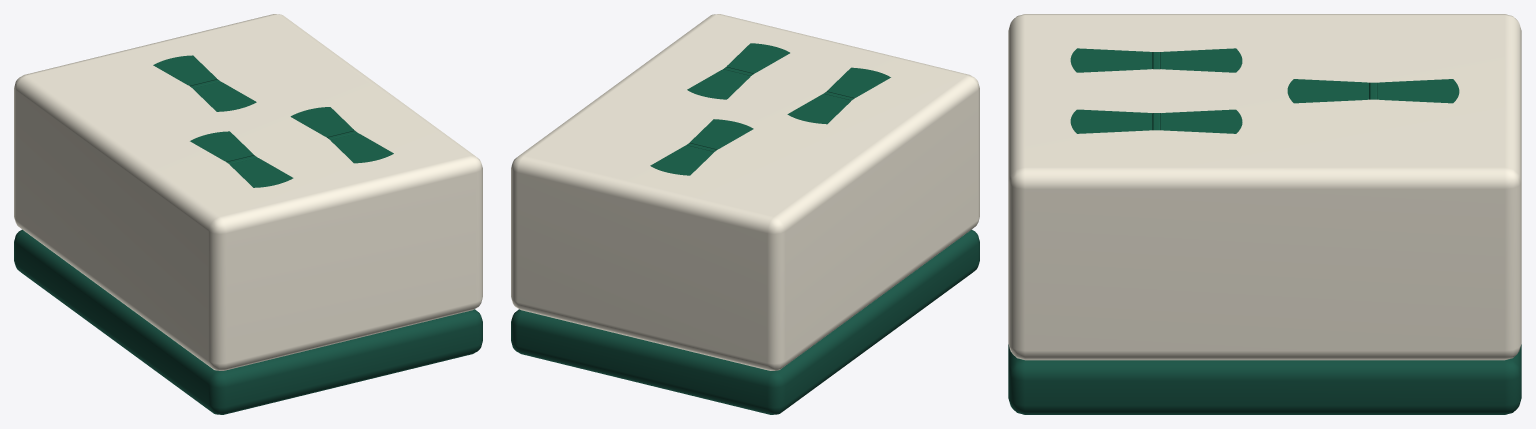
Rendered from suo-03.glb.
3 views of the same model, side by side, from view 1: azimuth 30°, elevation 25°; view 2: azimuth 150°, elevation 25°; view 3: azimuth 270°, elevation 25° (orthographic). The views are drawn at different scales.
Parts seen in each view (by area): view 1: suo-03_ivory, suo-03_back, suo-03_face_inlays; view 2: suo-03_ivory, suo-03_back, suo-03_face_inlays; view 3: suo-03_ivory, suo-03_back, suo-03_face_inlays.
Part boxes in pixels (x1,y1,x2,y2): suo-03_ivory: [14, 14, 482, 370]; suo-03_back: [14, 229, 482, 414]; suo-03_face_inlays: [153, 55, 393, 187]; suo-03_ivory: [511, 14, 979, 370]; suo-03_back: [511, 229, 979, 414]; suo-03_face_inlays: [650, 43, 890, 175]; suo-03_ivory: [1008, 14, 1521, 360]; suo-03_back: [1008, 344, 1521, 414]; suo-03_face_inlays: [1070, 48, 1459, 133].
Size of the model in its own units: 0.026 by 0.018 by 0.034.
